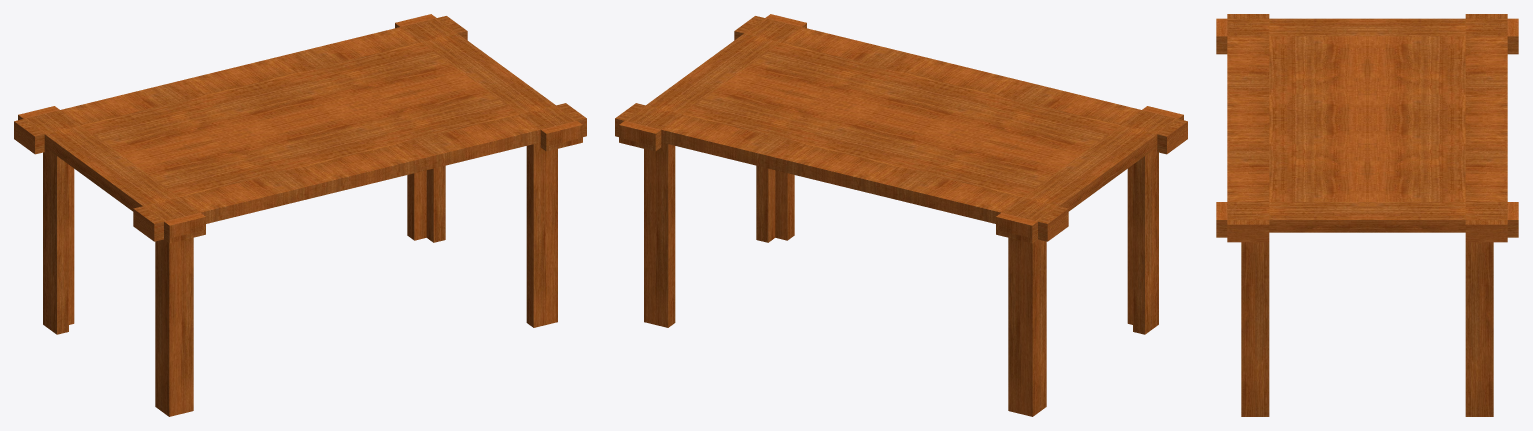
The model's file is table.obj.
3 renders of one model, left to right at view 1: azimuth 30°, elevation 25°; view 2: azimuth 150°, elevation 25°; view 3: azimuth 270°, elevation 25°, orthographic.
Visible parts, largest first — view 1: Table_Plane.001; view 2: Table_Plane.001; view 3: Table_Plane.001.
Part boxes in pixels (x1,y1,x2,y2): Table_Plane.001: [14, 14, 586, 416]; Table_Plane.001: [615, 14, 1187, 416]; Table_Plane.001: [1216, 14, 1518, 416].
Size of the model in its own units: 17.8 by 8 by 10.8.
